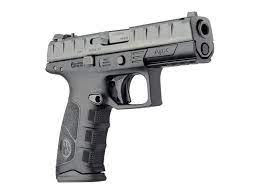gun: (41, 10, 215, 184)
